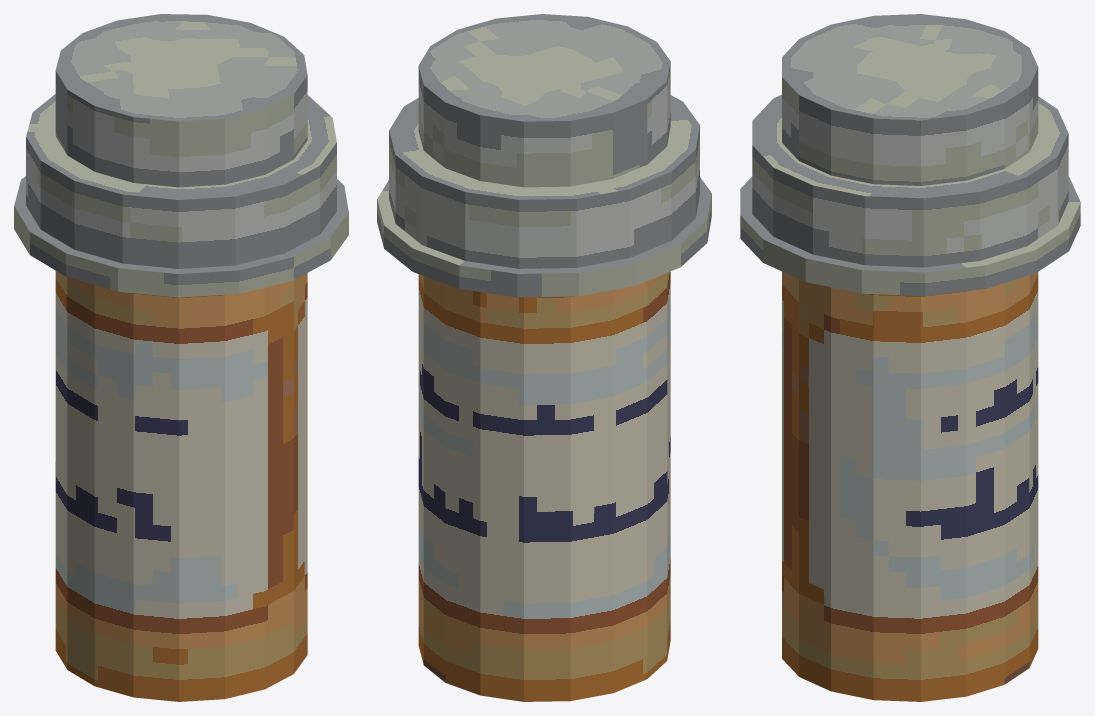
The model's file is Medication1.1.fbx.
3 views of the same model, side by side, from view 1: azimuth 30°, elevation 25°; view 2: azimuth 150°, elevation 25°; view 3: azimuth 270°, elevation 25° (orthographic).
Visible parts, largest first — view 1: Medication__v1; view 2: Medication__v1; view 3: Medication__v1.
Part boxes in pixels (<box>): Medication__v1: <box>14,14,348,701</box>; Medication__v1: <box>377,14,711,701</box>; Medication__v1: <box>740,14,1080,701</box>.
Bounding box in the file's own units: 231 × 444 × 236.
Materials: 1 (1 with a texture image).
